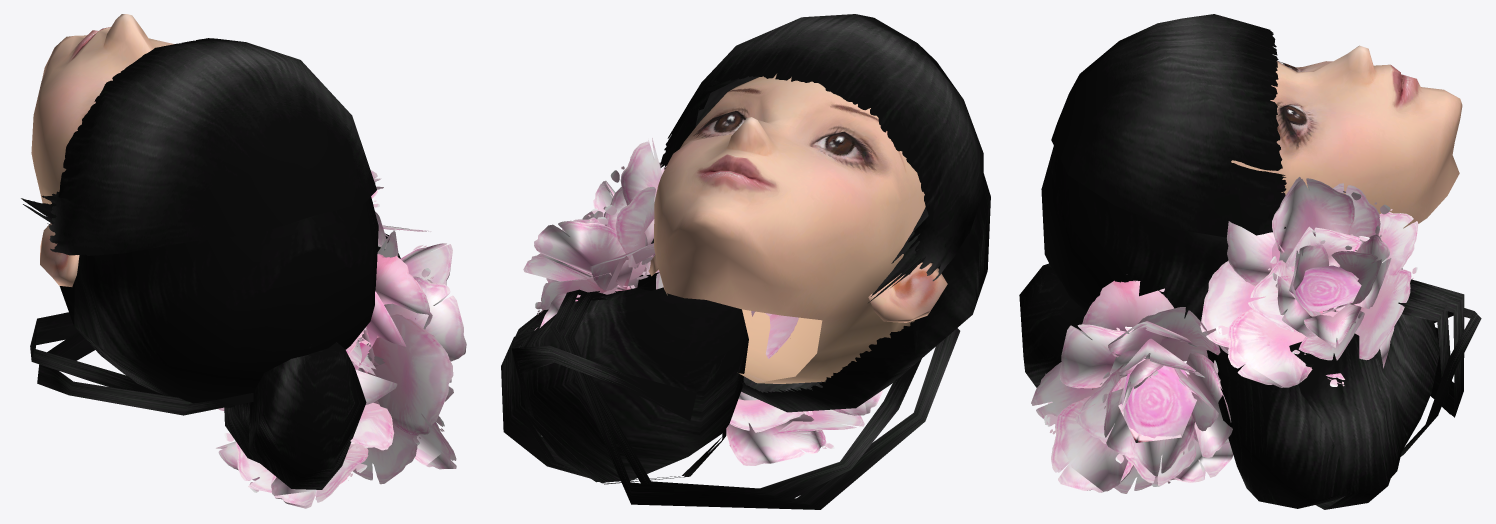
3 renders of one model, left to right at view 1: azimuth 30°, elevation 25°; view 2: azimuth 150°, elevation 25°; view 3: azimuth 270°, elevation 25°, orthographic. The views are drawn at different scales.
Parts seen in each view (by area): view 1: hair, head; view 2: hair, head; view 3: hair, head.
Boxes of the visible parts, bbox=[...] form: hair: bbox=[21, 38, 466, 508]; head: bbox=[31, 14, 174, 286]; hair: bbox=[501, 14, 990, 509]; head: bbox=[648, 74, 947, 383]; hair: bbox=[1019, 14, 1481, 509]; head: bbox=[1231, 45, 1462, 228].
Size of the model in its own units: 0.2327 by 0.2579 by 0.2589.
